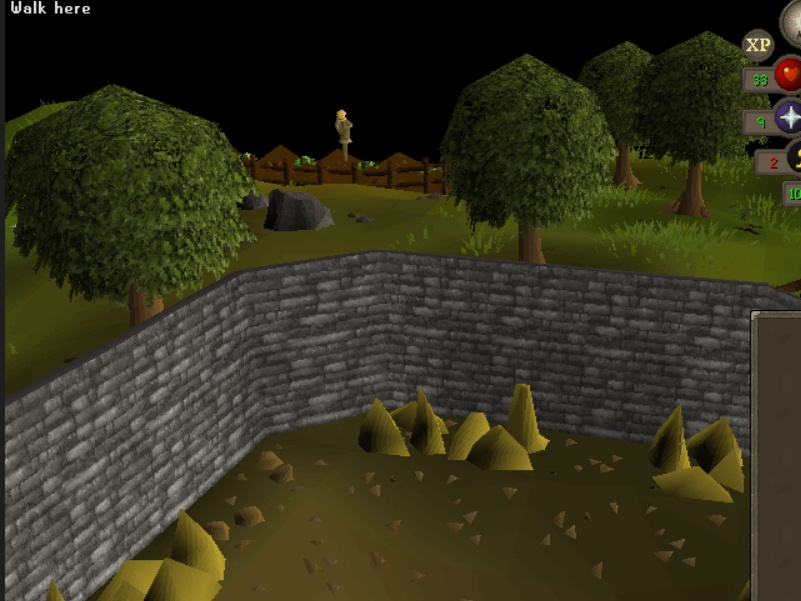gold: (96, 504, 233, 601), (645, 394, 751, 518), (450, 380, 555, 474), (357, 376, 450, 464)
